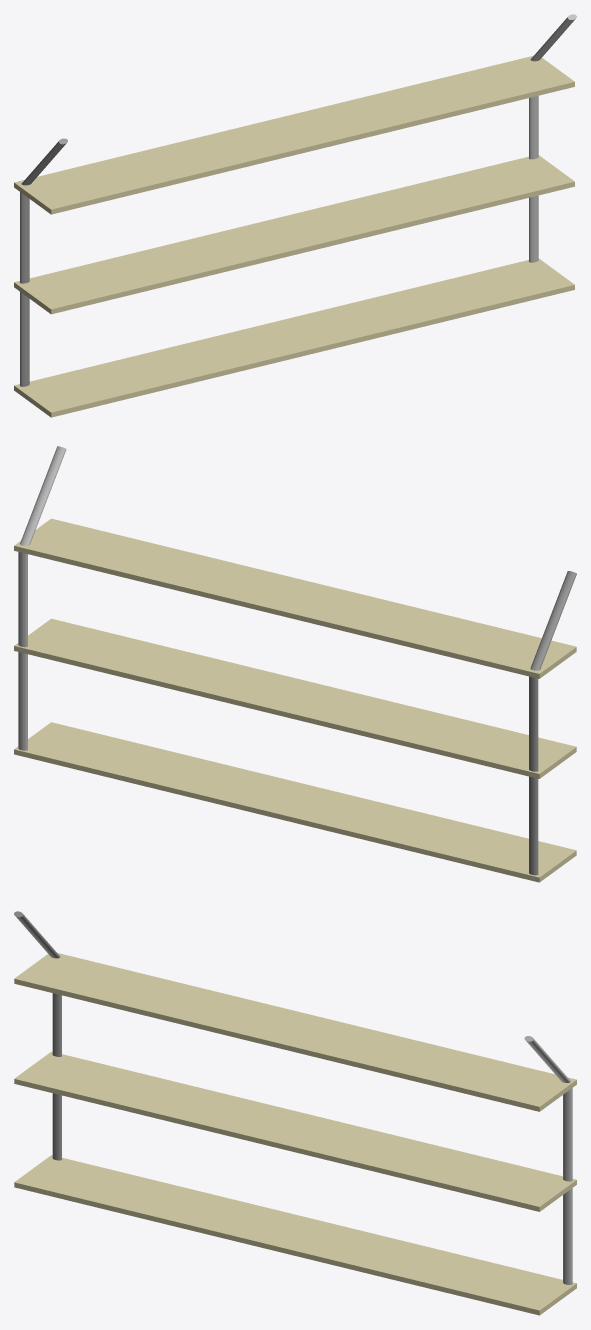
Rendered from Bathroom_Shelving.fbx.
The picture shows the model from 3 angles, top to bottom: view 1: azimuth 30°, elevation 25°; view 2: azimuth 150°, elevation 25°; view 3: azimuth 330°, elevation 25°; orthographic projection.
Parts seen in each view (by area): view 1: Bathroom_Shelving; view 2: Bathroom_Shelving; view 3: Bathroom_Shelving.
Part boxes in pixels (x1=…): Bathroom_Shelving: x1=14, y1=14, x2=576, y2=417; Bathroom_Shelving: x1=14, y1=446, x2=576, y2=882; Bathroom_Shelving: x1=14, y1=911, x2=576, y2=1315.
Size of the model in its own units: 202 by 103 by 28.12.
